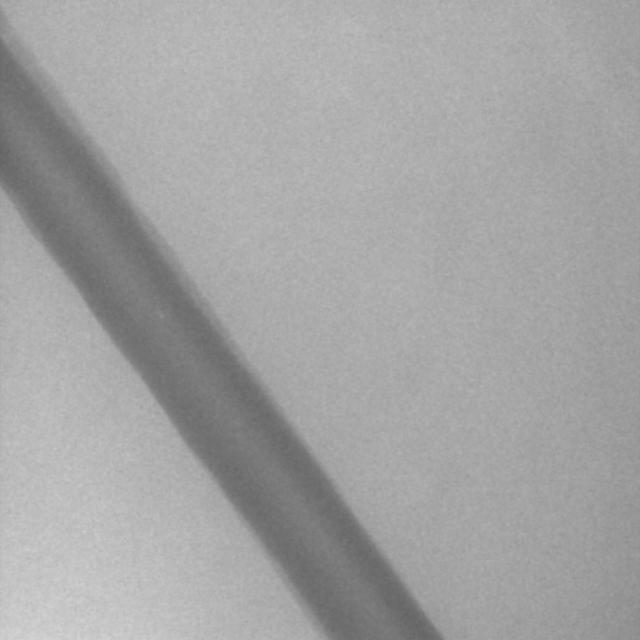air-hole: (156, 307, 164, 326)
